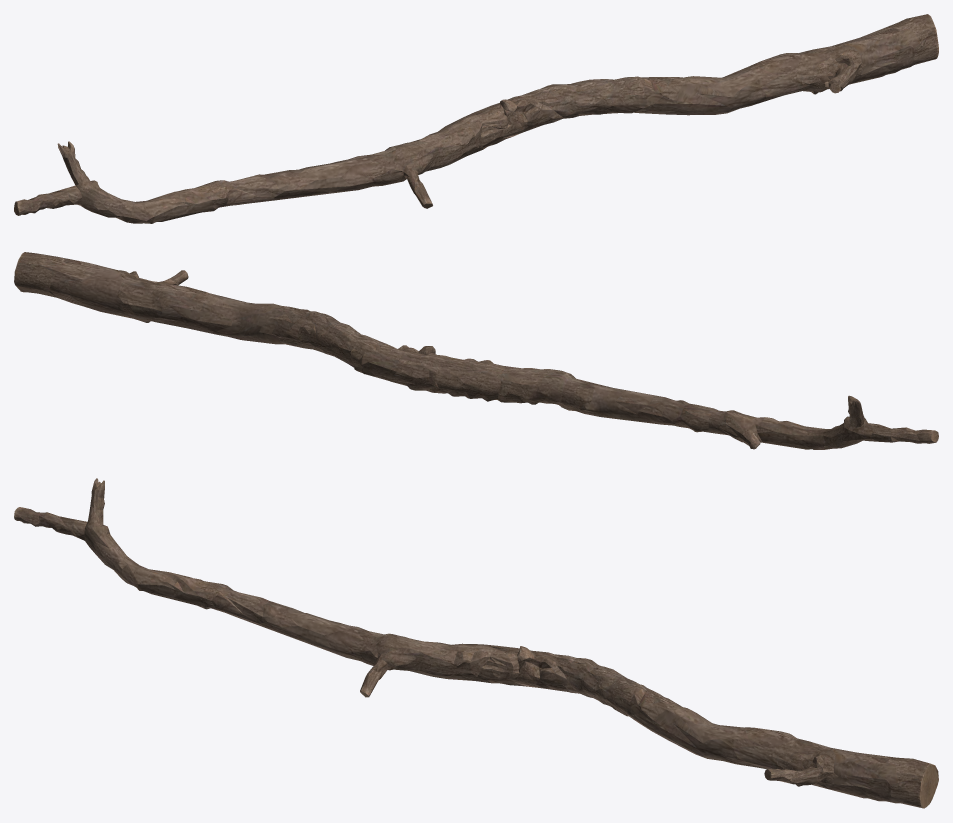
File: twig.glb
The picture shows the model from 3 angles, top to bottom: view 1: azimuth 30°, elevation 25°; view 2: azimuth 150°, elevation 25°; view 3: azimuth 330°, elevation 25°; orthographic projection.
Parts seen in each view (by area): view 1: output_unwrapped; view 2: output_unwrapped; view 3: output_unwrapped.
Boxes of the visible parts, x1=… form: output_unwrapped: x1=14, y1=14, x2=938, y2=223; output_unwrapped: x1=14, y1=252, x2=938, y2=449; output_unwrapped: x1=14, y1=478, x2=938, y2=808.
Size of the model in its own units: 1.9 by 0.2314 by 0.2065.
Materials: 1 (1 with a texture image).
